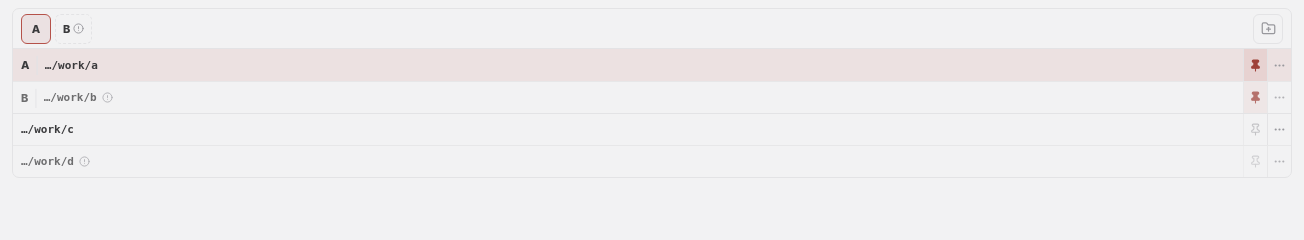
Test: DocsRootSwitcher › opens the requested root menu without changing the active root
Click the button named "Open actions for c: /work/c" at (1279, 130), box [1267,114,1291,145]
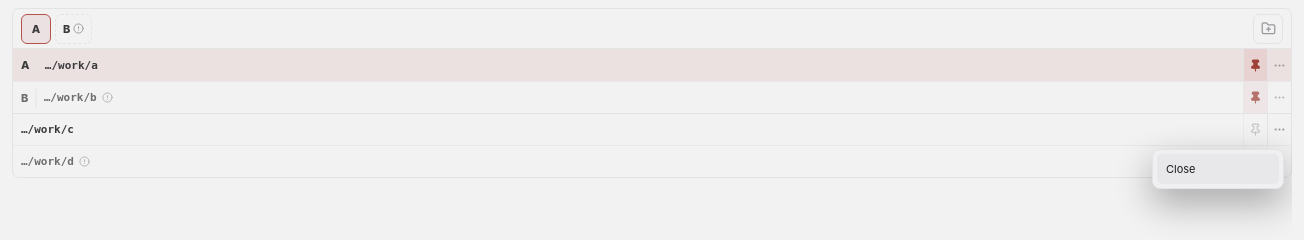
Expected: the menu named "Actions for c: /work/c" is shown, [1152,149,1284,189]
